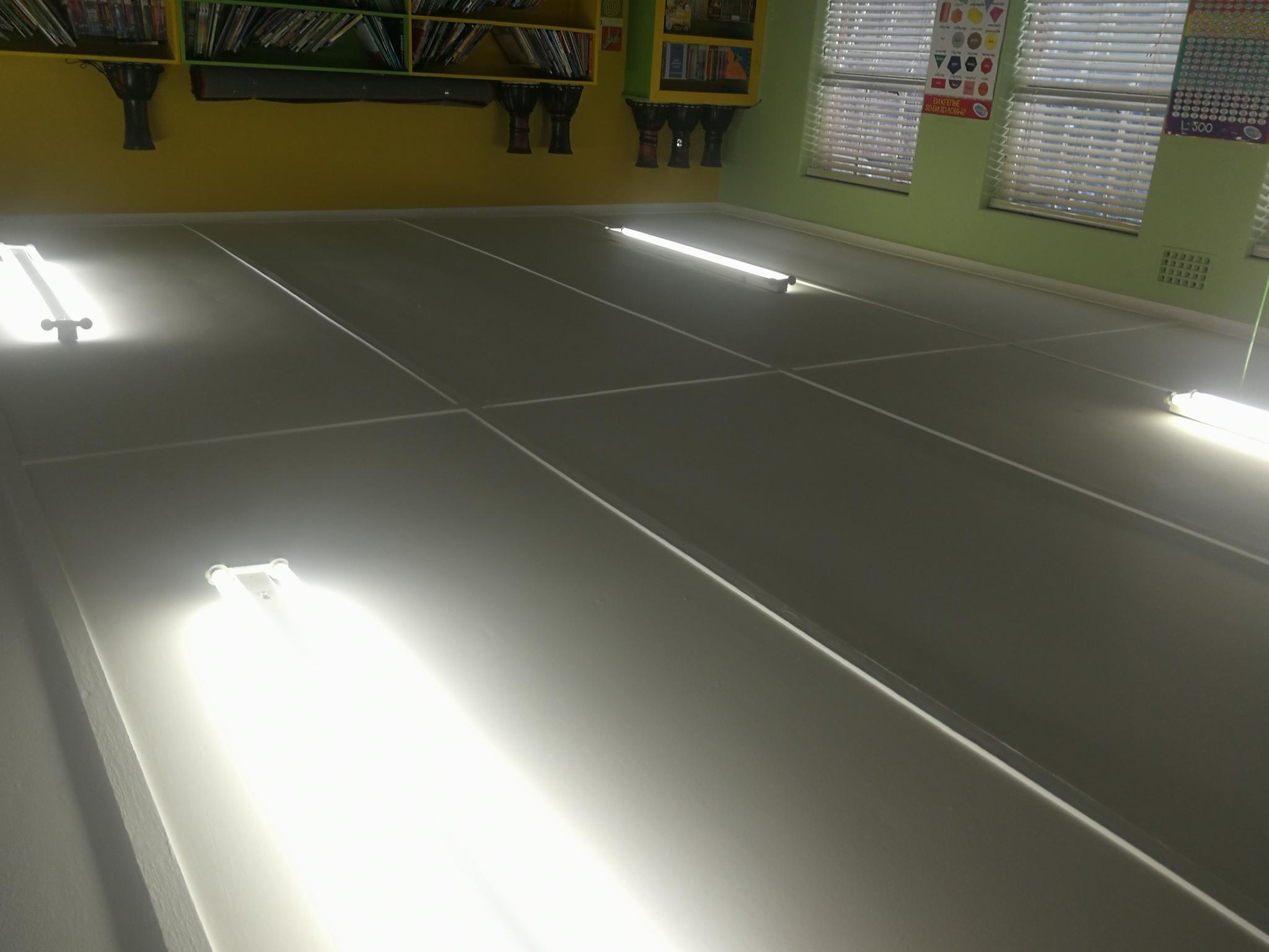light: (178, 557, 680, 950), (611, 221, 801, 293), (0, 242, 113, 343), (1159, 375, 1269, 449)
